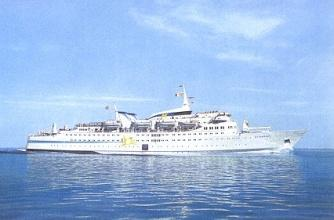youlun: (17, 88, 311, 154)
